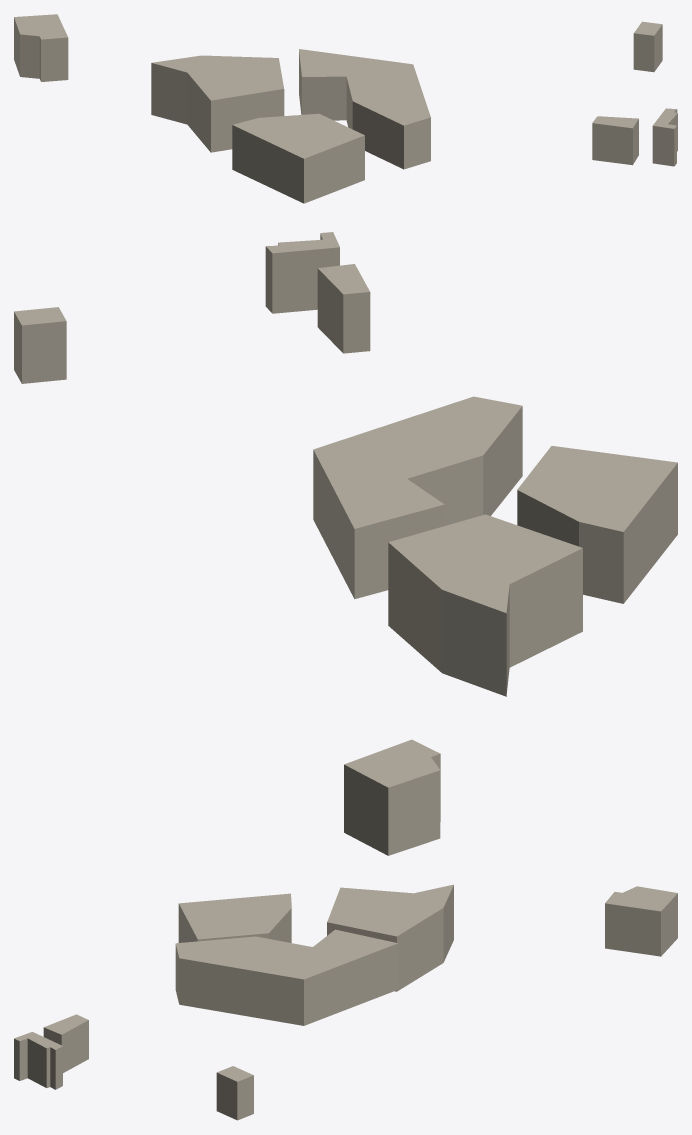
File: bormla_64_26_collision.glb
3 views of the same model, one above another, from view 1: azimuth 30°, elevation 25°; view 2: azimuth 150°, elevation 25°; view 3: azimuth 270°, elevation 25° (orthographic). The views are drawn at different scales.
Parts seen in each view (by area): view 1: geometry_0; view 2: geometry_0; view 3: geometry_0.
Part boxes in pixels (x1,y1,x2,y2): geometry_0: (14, 14, 677, 203); geometry_0: (14, 232, 677, 855); geometry_0: (14, 884, 677, 1120).
Bounding box in the file's own units: 138 × 23.23 × 165.
